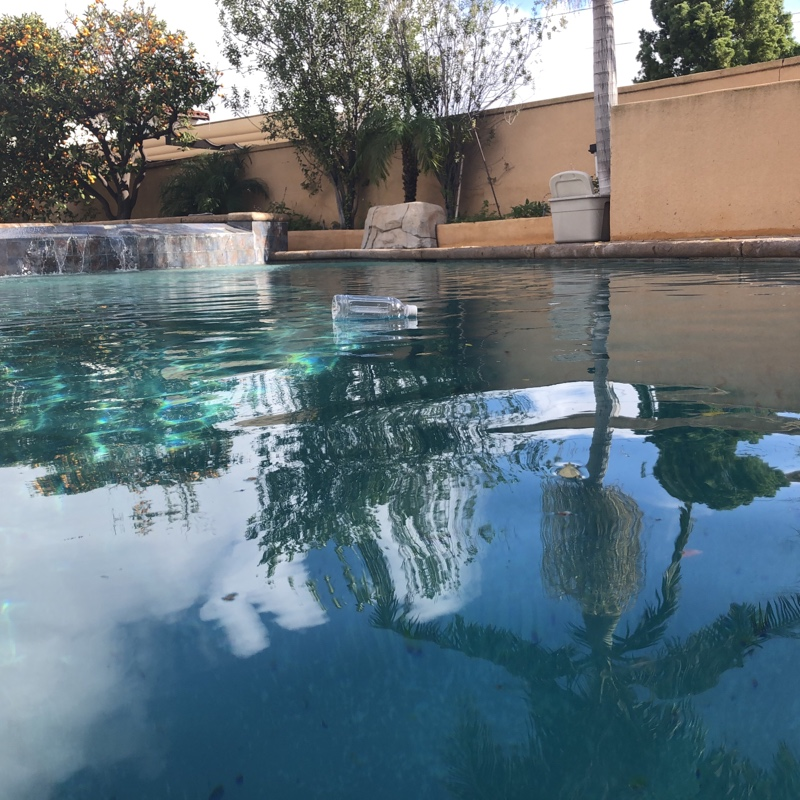Plastic Bottle: (328, 293, 421, 326)
